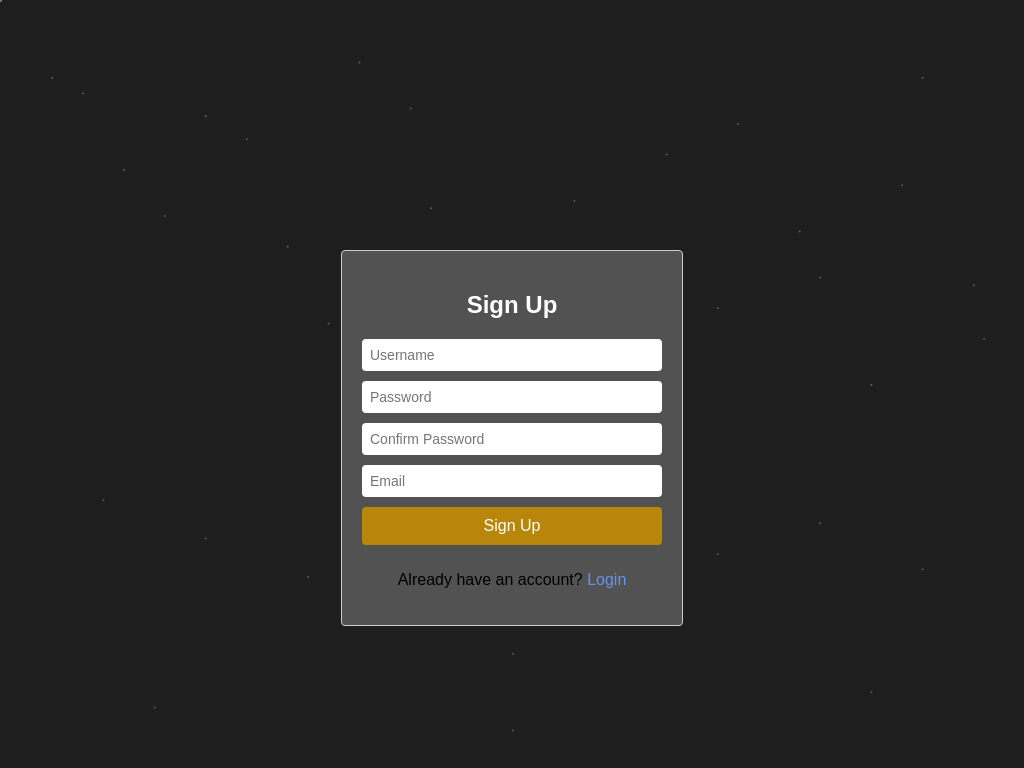
Signup Form Validation › shows an error if passwords do not match
The width and height of the screenshot is (1024, 768).
Type "user1" into the field with placeholder "Username" at (512,355), box [362, 339, 662, 371]
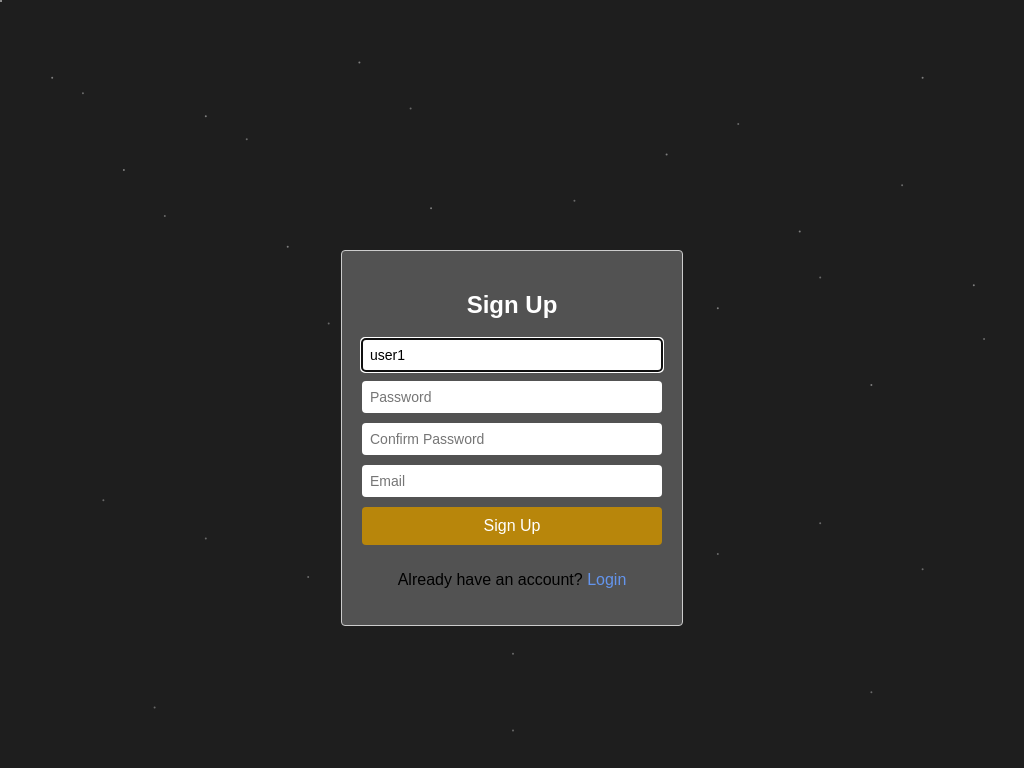
Type "user1@example.com" into the field with placeholder "Email" at (512,481), box [362, 465, 662, 497]
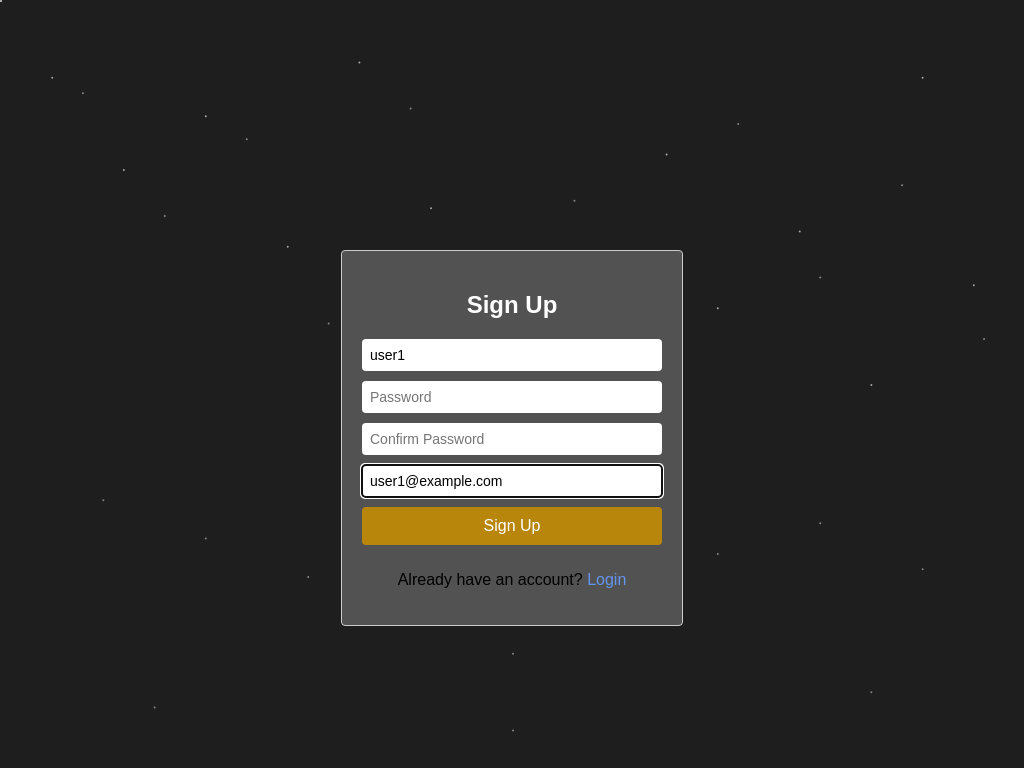
Type "password123" into the password field with placeholder "Password" at (512,397), box [362, 381, 662, 413]
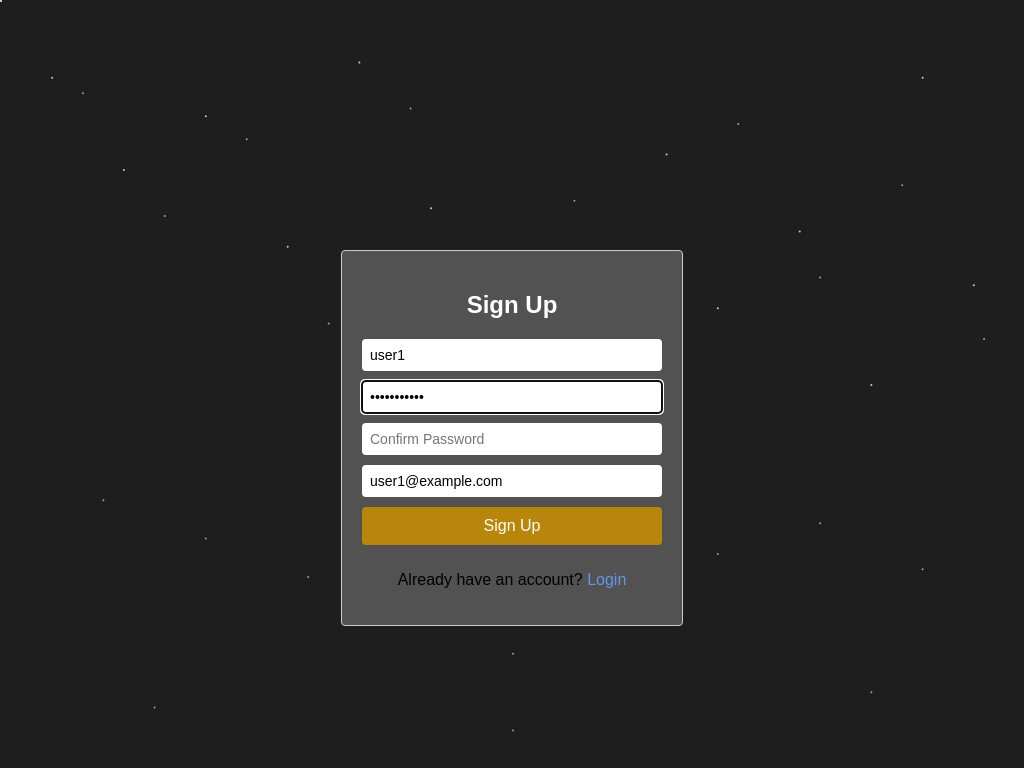
Type "different123" into the password field with placeholder "Confirm Password" at (512,439), box [362, 423, 662, 455]
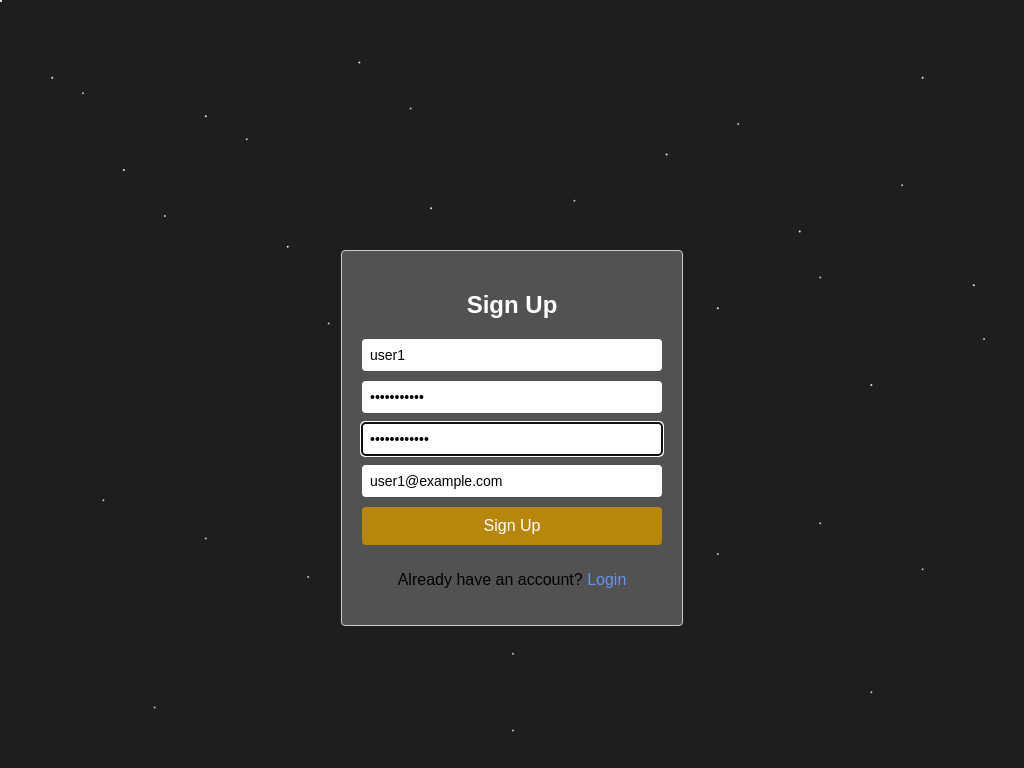
Click the button "Sign Up" at (512,526), box [362, 507, 662, 545]
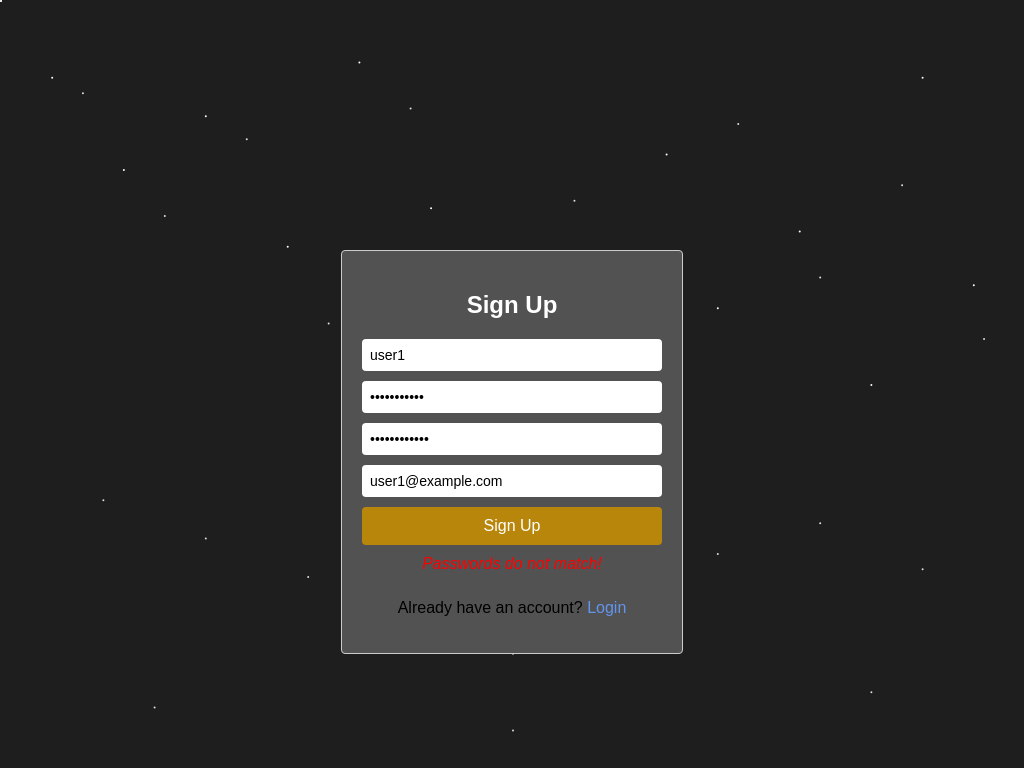
Expected: the text "Passwords do not match!" is shown, [422, 555, 602, 572]
